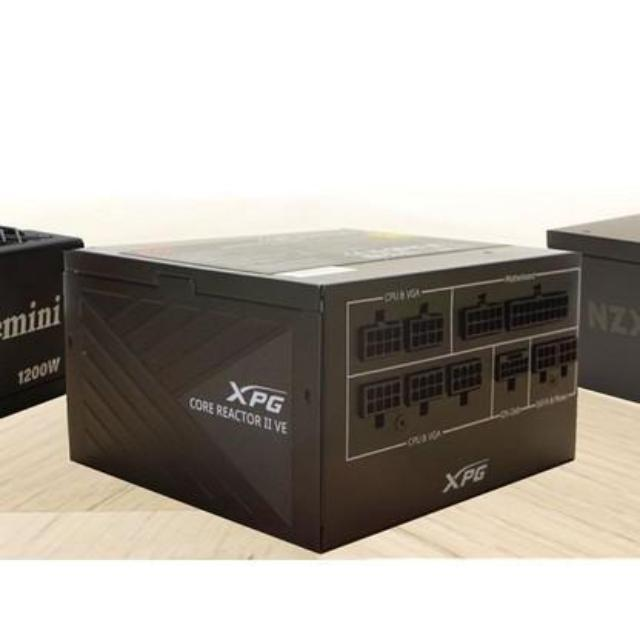PSU: (43, 225, 597, 564)
